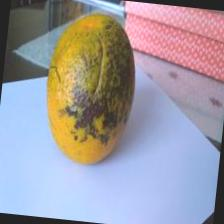Orange Rotten: (34, 2, 151, 176)
